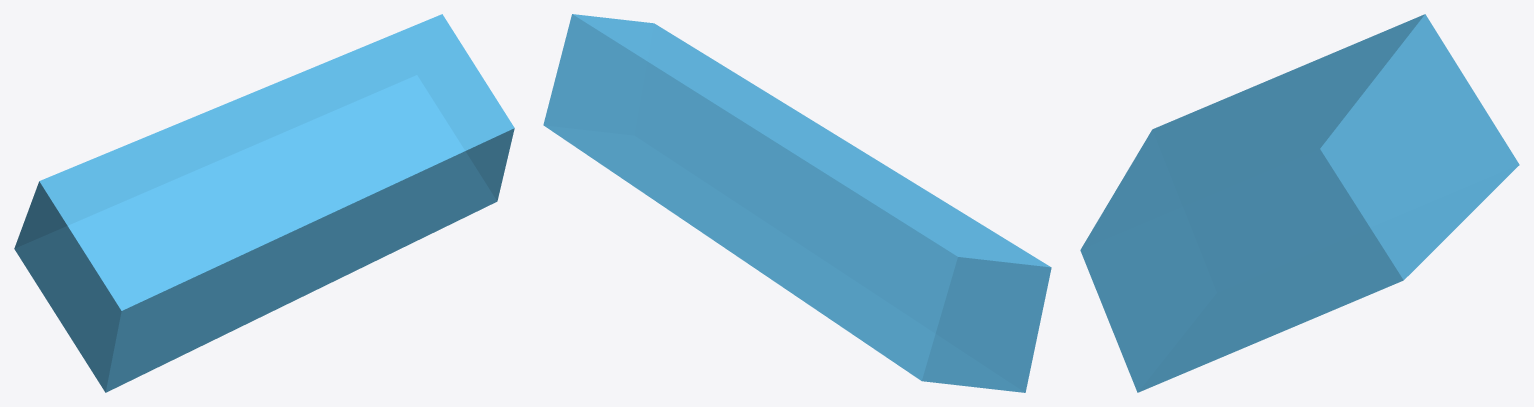
File: Event_420107950_HErechit_5.fbx
The picture shows the model from 3 angles, left to right: view 1: azimuth 30°, elevation 25°; view 2: azimuth 150°, elevation 25°; view 3: azimuth 270°, elevation 25°; orthographic projection. The views are drawn at different scales.
Parts seen in each view (by area): view 1: Model; view 2: Model; view 3: Model.
Part boxes in pixels (x1,y1,x2,y2): Model: [14, 14, 514, 392]; Model: [543, 14, 1051, 392]; Model: [1080, 14, 1519, 392].
Bounding box in the file's own units: 1.41 × 0.9683 × 0.8735.
